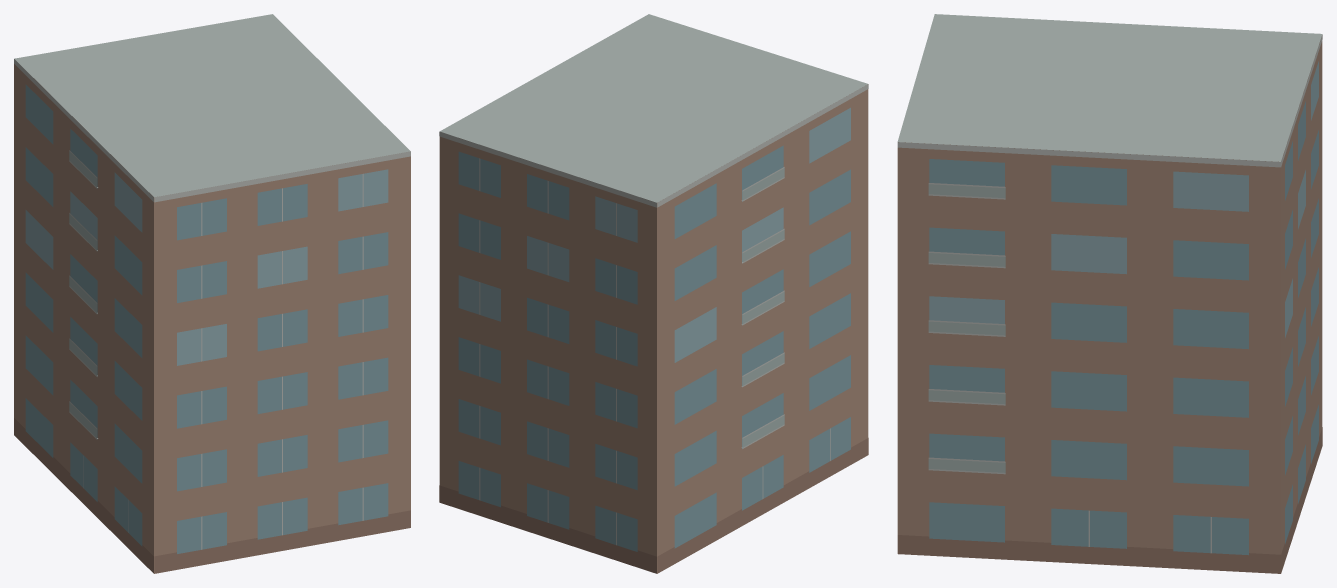
File: survey-upis-32963094.glb
The picture shows the model from 3 angles, left to right: view 1: azimuth 30°, elevation 25°; view 2: azimuth 150°, elevation 25°; view 3: azimuth 270°, elevation 25°; orthographic projection. The views are drawn at different scales.
Visible parts, largest first — view 1: survey-upis-32963094.tmp; view 2: survey-upis-32963094.tmp; view 3: survey-upis-32963094.tmp.
Part boxes in pixels (box(x1,y1,x2,y2)): survey-upis-32963094.tmp: box(14, 14, 410, 573); survey-upis-32963094.tmp: box(439, 14, 868, 573); survey-upis-32963094.tmp: box(897, 14, 1322, 573).
Size of the model in its own units: 13.94 by 18.1 by 16.93.
